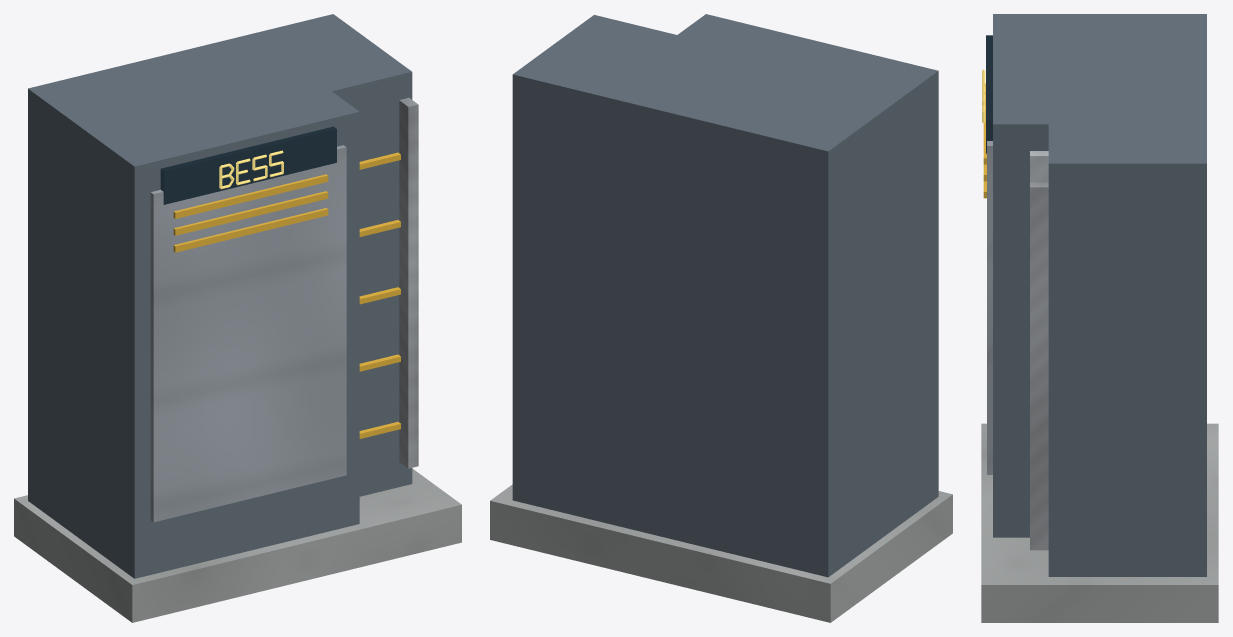
File: ENERGY-010.glb
3 views of the same model, side by side, from view 1: azimuth 30°, elevation 25°; view 2: azimuth 150°, elevation 25°; view 3: azimuth 270°, elevation 25° (orthographic). The views are drawn at different scales.
Parts seen in each view (by area): view 1: ENERGY-010; view 2: ENERGY-010; view 3: ENERGY-010.
Part boxes in pixels (x1,y1,x2,y2): ENERGY-010: (14,14,461,622); ENERGY-010: (490,14,952,622); ENERGY-010: (981,14,1218,622).
Size of the model in its own units: 1.64 by 2.14 by 1.02.
7 materials, 3 textured.
